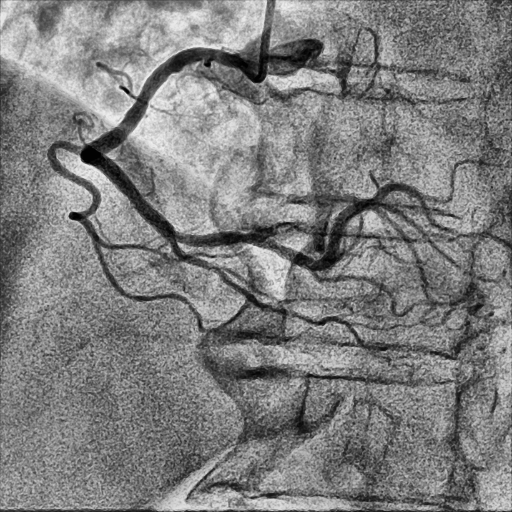pborca: (173, 199, 382, 270)
pda: (166, 234, 361, 342)
rca: (80, 48, 240, 238)
